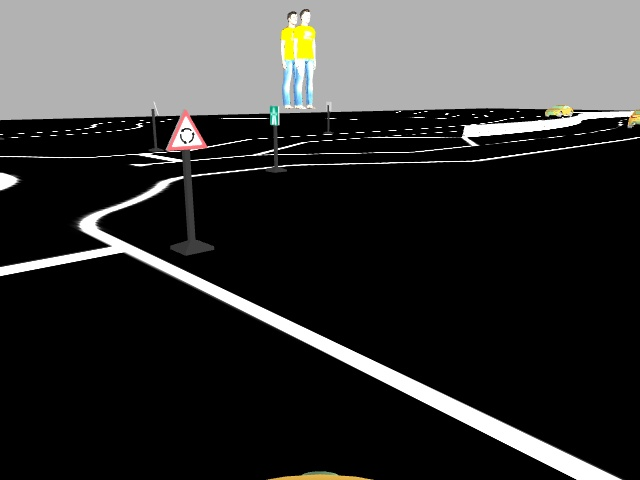HighwayEntrance: (264, 101, 283, 127)
Roundabout: (163, 110, 207, 153)
